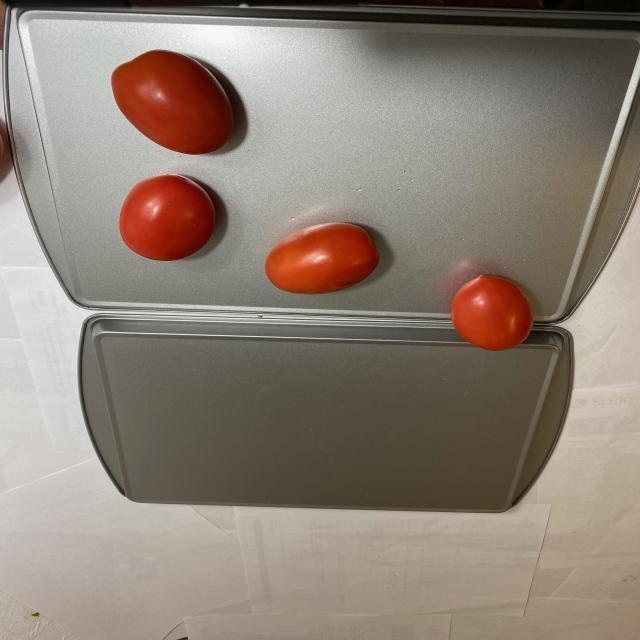tomato: (103, 48, 377, 295), (444, 270, 532, 348)
